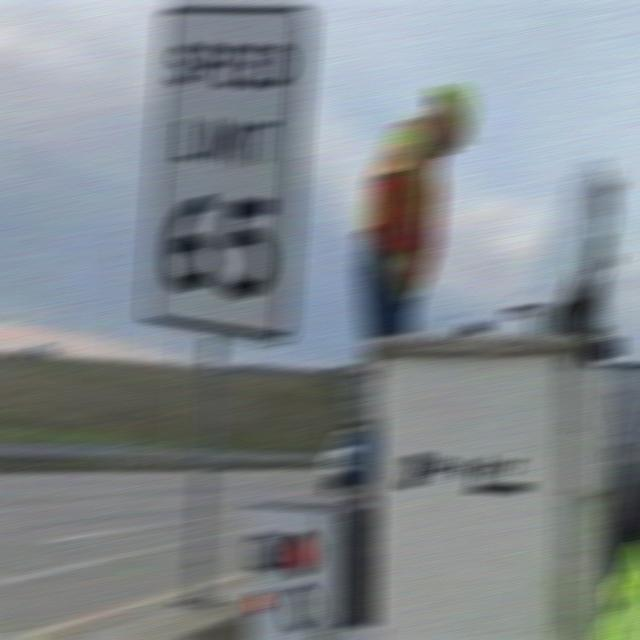speedLimit65: (154, 8, 310, 348)
